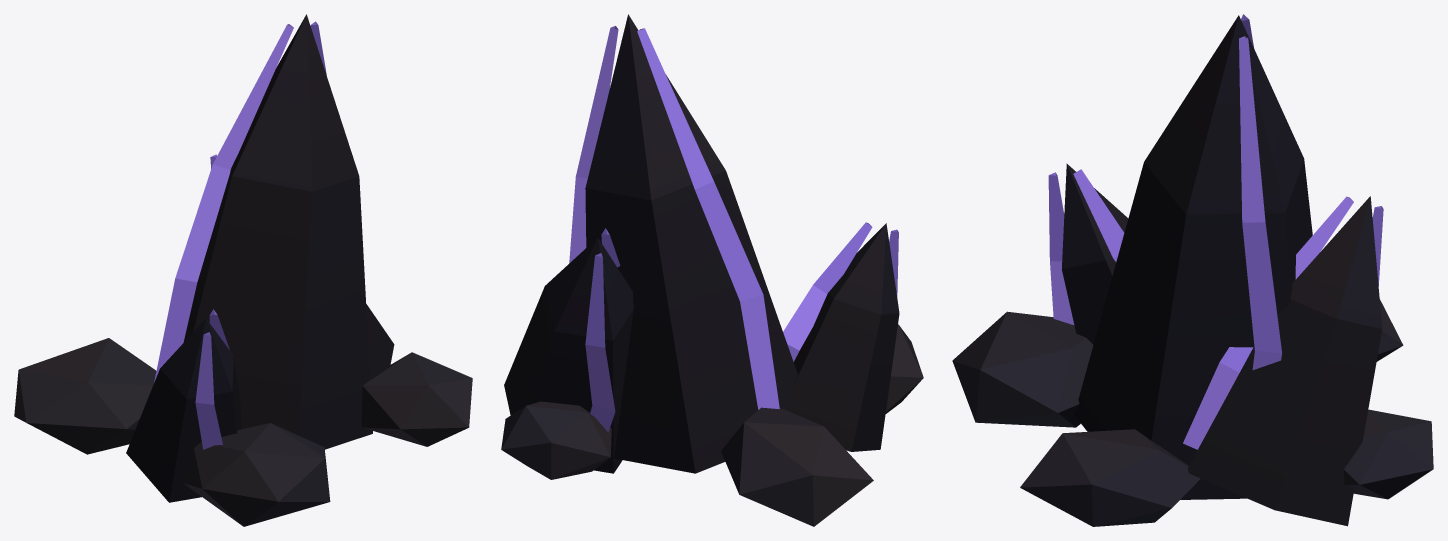
File: meteor_shard.glb
3 views of the same model, side by side, from view 1: azimuth 30°, elevation 25°; view 2: azimuth 150°, elevation 25°; view 3: azimuth 270°, elevation 25° (orthographic). The views are drawn at different scales.
Visible parts, largest first — view 1: meteor_shard; view 2: meteor_shard; view 3: meteor_shard.
Part boxes in pixels (box(x1,y1,x2,y2)): meteor_shard: box(14, 14, 472, 526); meteor_shard: box(501, 14, 923, 526); meteor_shard: box(952, 14, 1433, 526).
Size of the model in its own units: 1.09 by 1.19 by 1.05.
